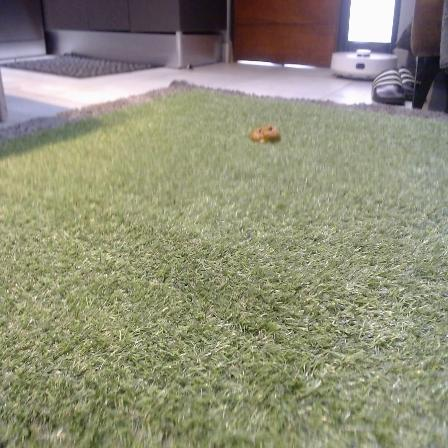dog-poop: (251, 116, 281, 148)
